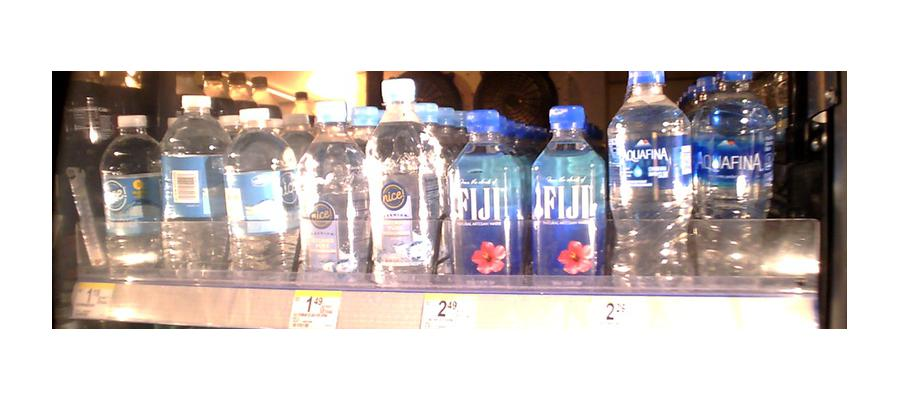bottle: (609, 66, 697, 288), (690, 76, 774, 272), (367, 82, 440, 282), (447, 109, 530, 277), (297, 95, 368, 282), (530, 106, 605, 282), (156, 93, 224, 278), (220, 115, 296, 279), (100, 113, 158, 273)
